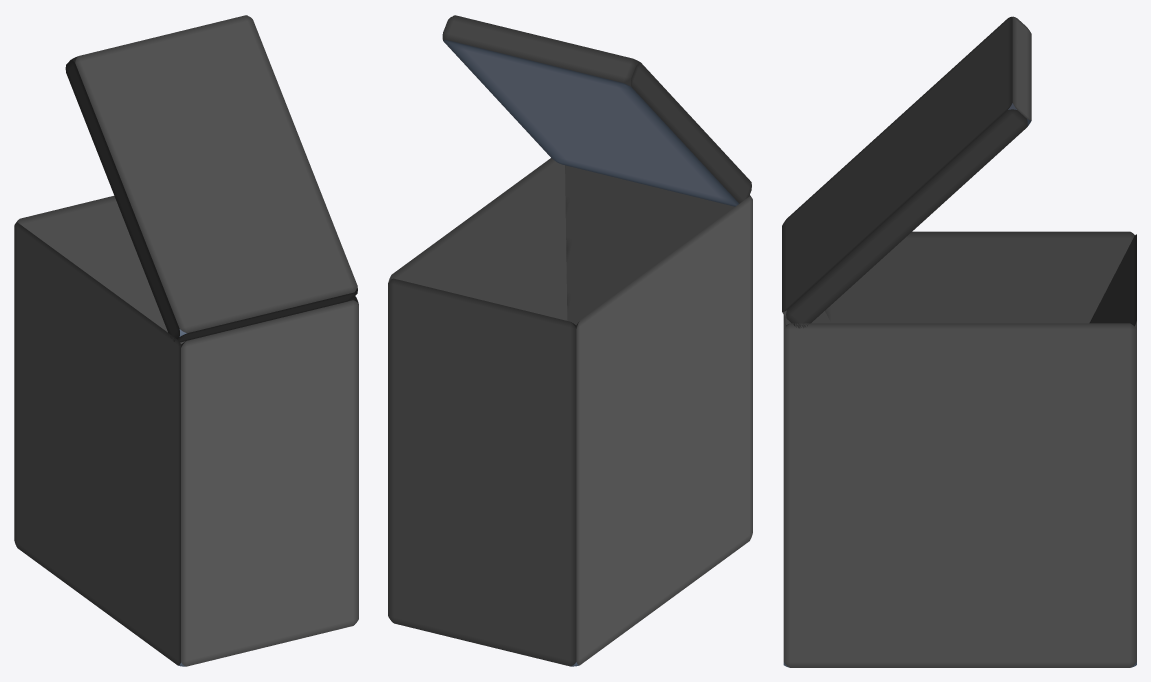
The picture shows the model from 3 angles, left to right: view 1: azimuth 30°, elevation 25°; view 2: azimuth 150°, elevation 25°; view 3: azimuth 270°, elevation 25°; orthographic projection. The views are drawn at different scales.
Parts seen in each view (by area): view 1: group, cube; view 2: group, cube; view 3: group, cube.
Boxes of the visible parts, bbox=[...] form: group: bbox=[14, 196, 358, 666]; cube: bbox=[65, 15, 357, 342]; group: bbox=[388, 158, 752, 666]; cube: bbox=[442, 15, 751, 206]; group: bbox=[783, 231, 1136, 667]; cube: bbox=[782, 16, 1031, 328].
Size of the model in its own units: 100 by 285 by 163.
Materials: 1 (1 with a texture image).
